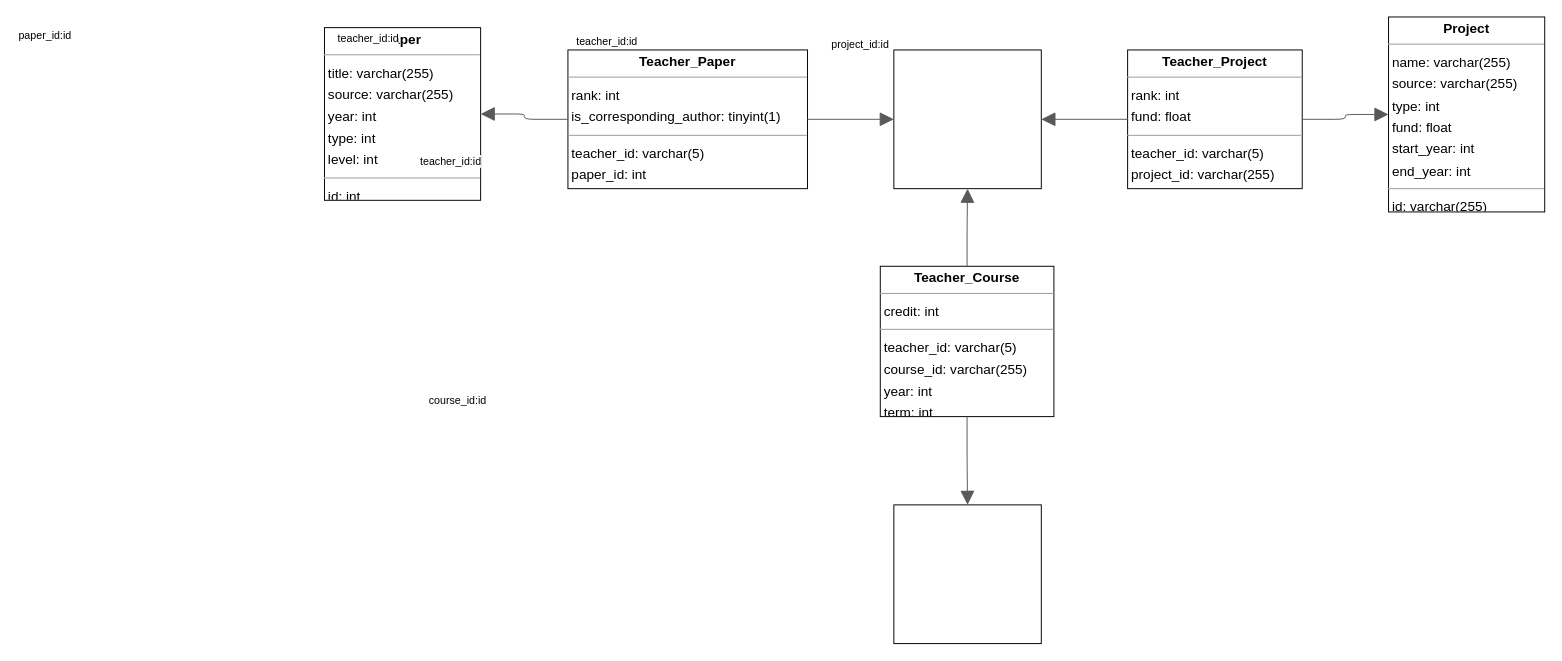
The diagram is 1562 pixels wide and 661 high, and some of its shapes have lost their labels. Each missing label, with the box of its shape:
Course name: varchar(255) credit: int type: int id: varchar(255): (893, 504, 1041, 644)
Teacher name: varchar(255) sex: int title: int id: varchar(5): (893, 49, 1041, 189)
